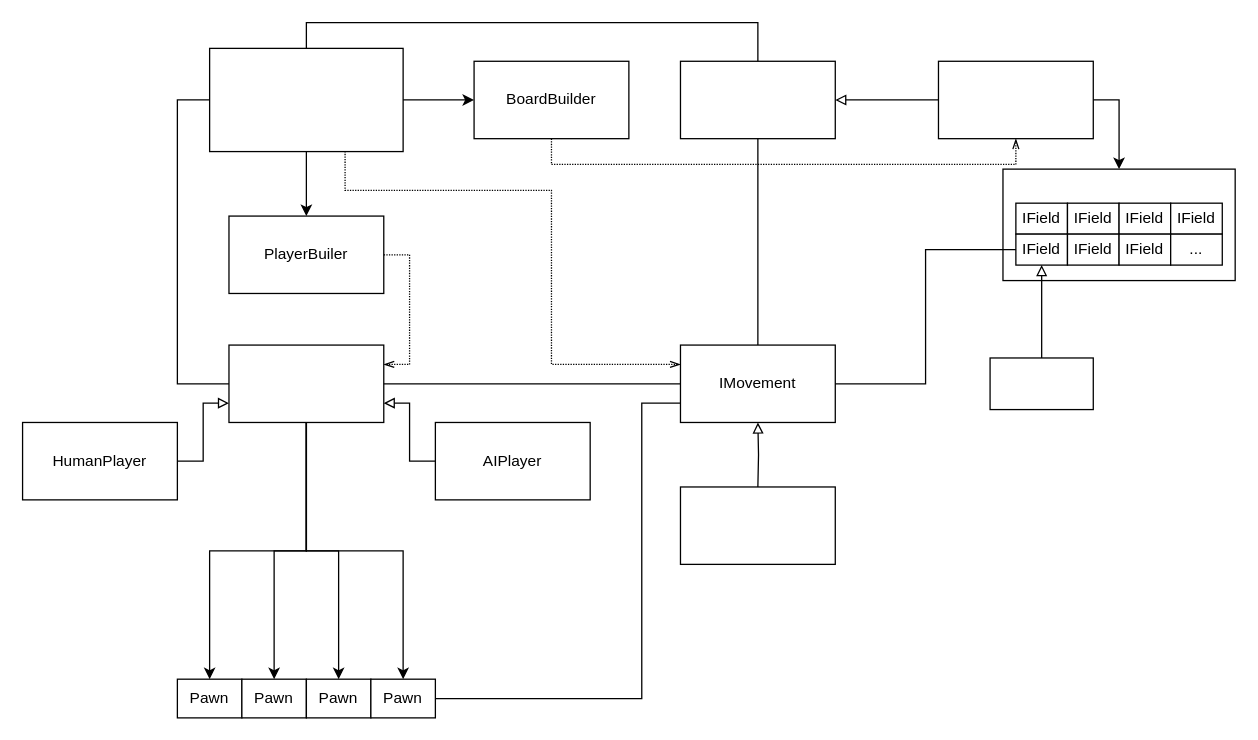
The diagram is 1258 pixels wide and 740 high, and some of its shapes have lost their labels. Here are the shapes that lost their labels. From the top down, the box of each, then its label:
(208, 47, 403, 152): Game
(679, 60, 835, 139): IBoard
(937, 60, 1093, 139): Board
(1002, 168, 1235, 281): List<Field>
(228, 344, 384, 422): AbstractPlayer
(989, 357, 1093, 410): NormalField
(679, 486, 835, 564): DiceMovement
